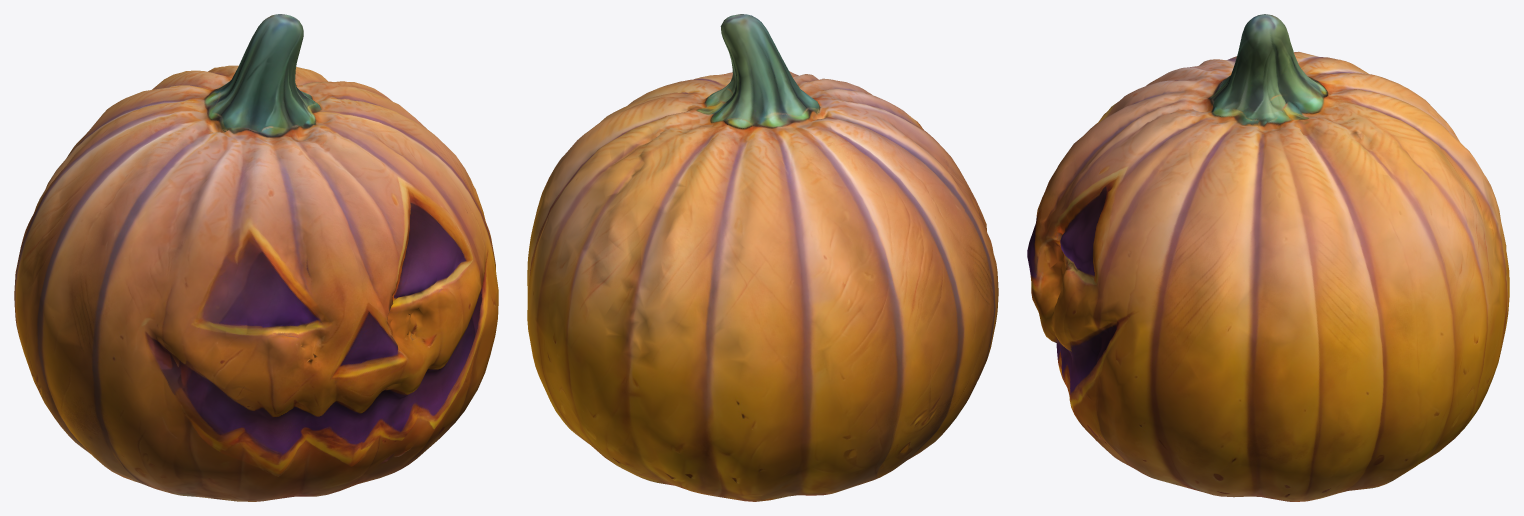
The model's file is _halloween_pumpkin__1027121341_refine.fbx.
3 renders of one model, left to right at view 1: azimuth 30°, elevation 25°; view 2: azimuth 150°, elevation 25°; view 3: azimuth 270°, elevation 25°, orthographic. The views are drawn at different scales.
Visible parts, largest first — view 1: Mesh_0; view 2: Mesh_0; view 3: Mesh_0.
Boxes of the visible parts, <box> form: Mesh_0: <box>14,14,498,501</box>; Mesh_0: <box>527,14,998,501</box>; Mesh_0: <box>1027,14,1509,501</box>.
Size of the model in its own units: 120 by 120 by 117.
Materials: 1 (1 with a texture image).
